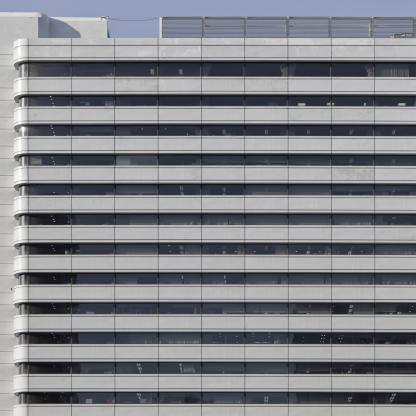Building Outline: (0, 12, 416, 416)
Facade: (14, 16, 416, 416)
Floor: (14, 60, 416, 90), (14, 94, 416, 120), (14, 123, 416, 149), (14, 153, 416, 179), (14, 183, 416, 209), (14, 213, 416, 239), (14, 242, 416, 268), (14, 272, 416, 298), (14, 302, 416, 328), (14, 332, 416, 358), (14, 362, 416, 388), (14, 391, 416, 412)
Floor Slab: (14, 412, 416, 416), (14, 149, 416, 153), (14, 179, 416, 183), (14, 209, 416, 213), (14, 238, 416, 242), (14, 268, 416, 272), (14, 298, 416, 302), (14, 57, 416, 60), (14, 120, 416, 123), (14, 328, 416, 331), (14, 358, 416, 361), (14, 388, 416, 391), (14, 90, 416, 93)
Top Floor: (14, 33, 416, 57)
Window: (18, 62, 416, 78), (19, 332, 416, 345), (19, 362, 416, 375), (19, 95, 416, 107), (19, 125, 416, 137), (19, 154, 416, 166), (19, 184, 416, 196), (19, 214, 416, 226), (19, 243, 416, 255), (19, 392, 416, 404), (19, 273, 416, 285), (19, 303, 416, 315)
